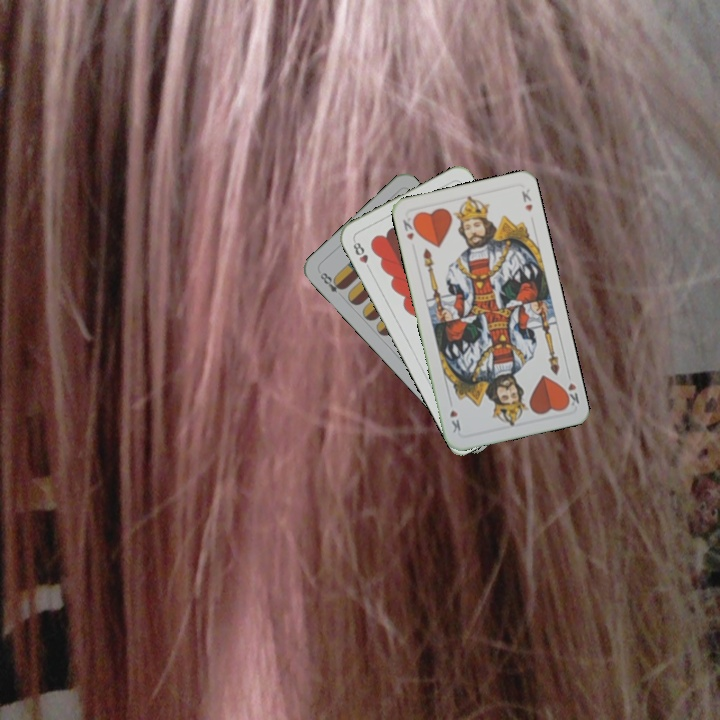E8: (316, 268, 347, 296)
H8: (349, 236, 374, 274)
HK: (559, 368, 582, 410), (399, 212, 420, 243)
